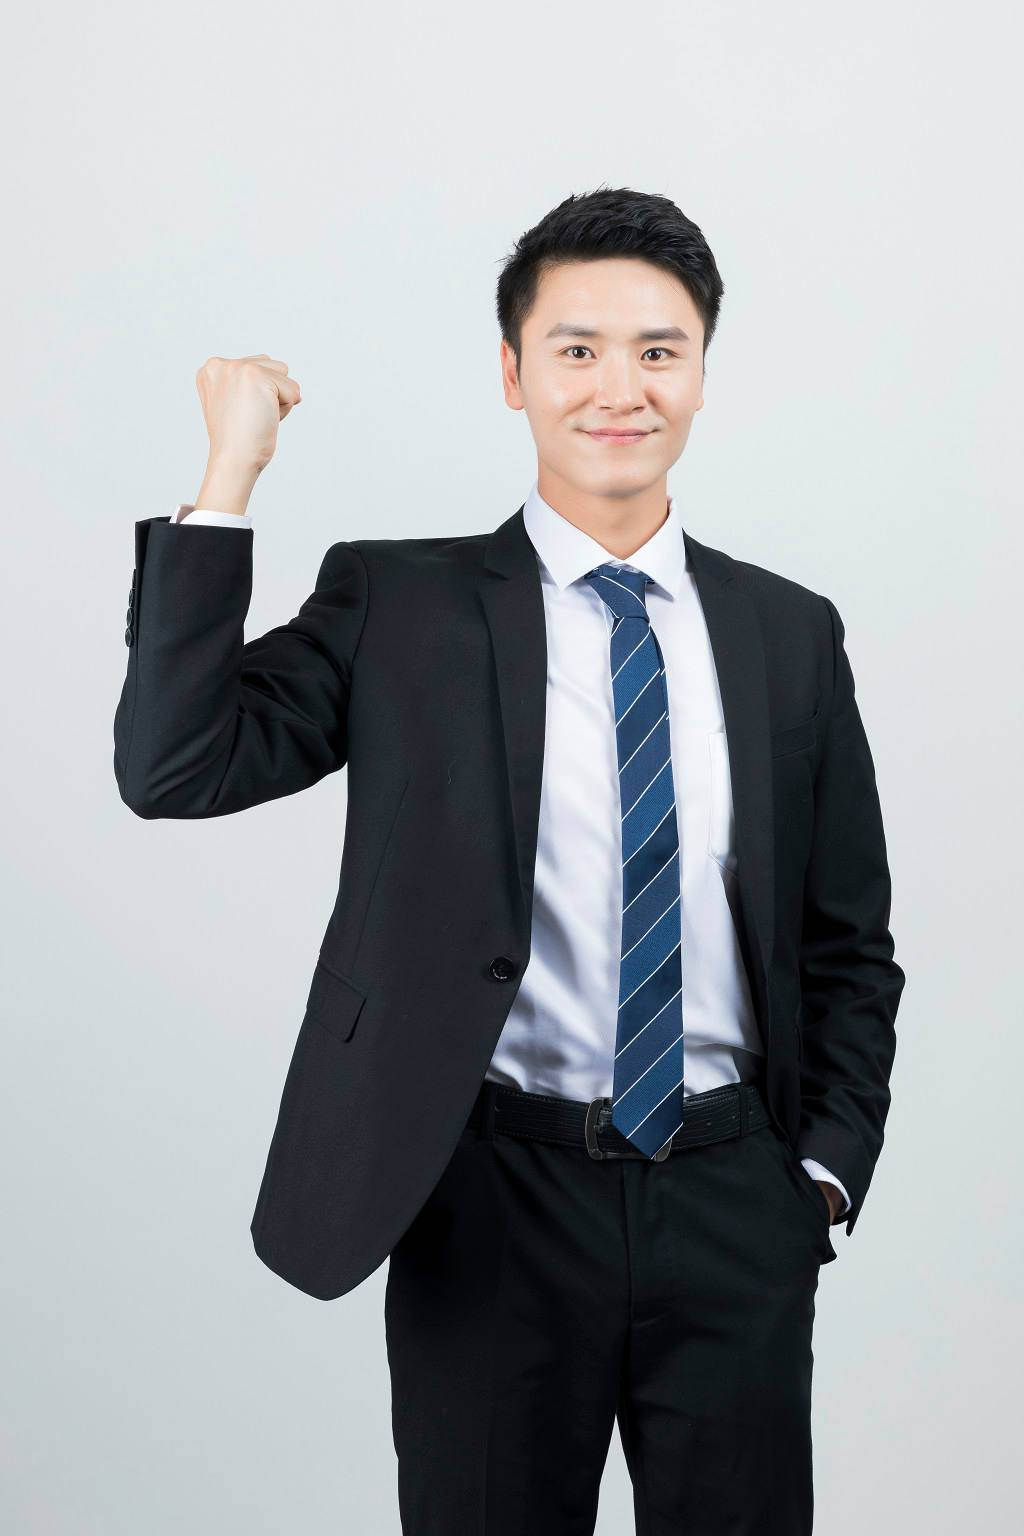no-phone: (189, 342, 310, 469)
